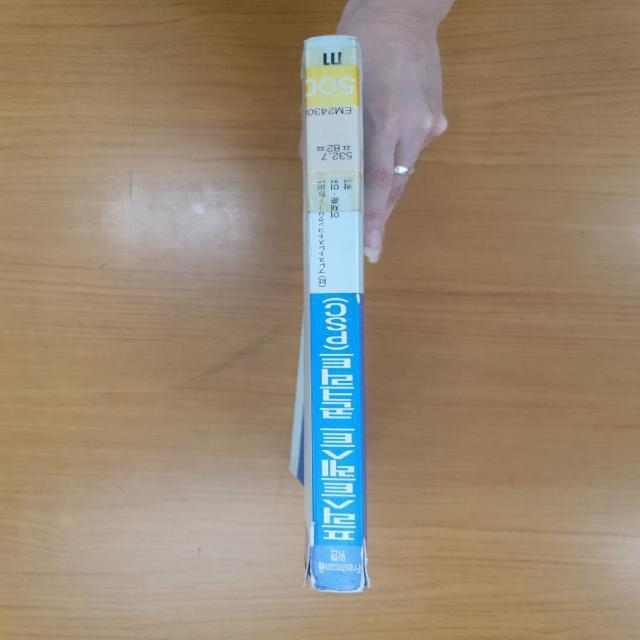Ripped: (297, 522, 320, 596), (354, 532, 378, 598)
Wornout: (301, 31, 361, 44), (353, 288, 367, 308)
